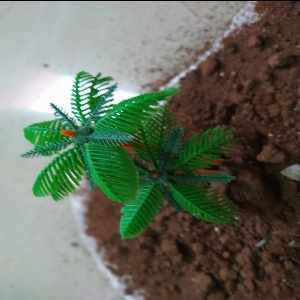plant: (19, 68, 245, 228)
